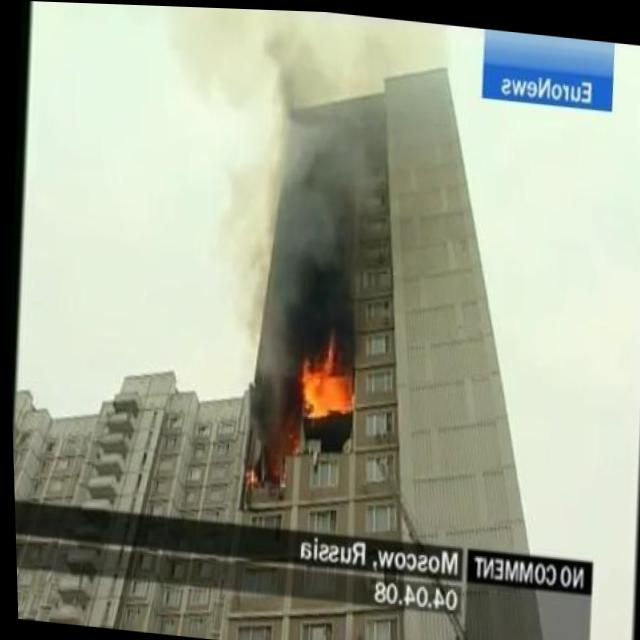fire: (294, 333, 356, 421)
